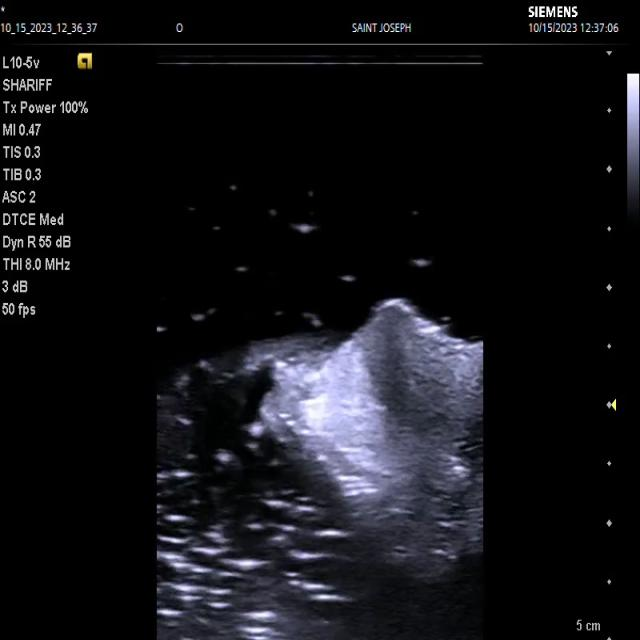tissue: (248, 300, 482, 573)
